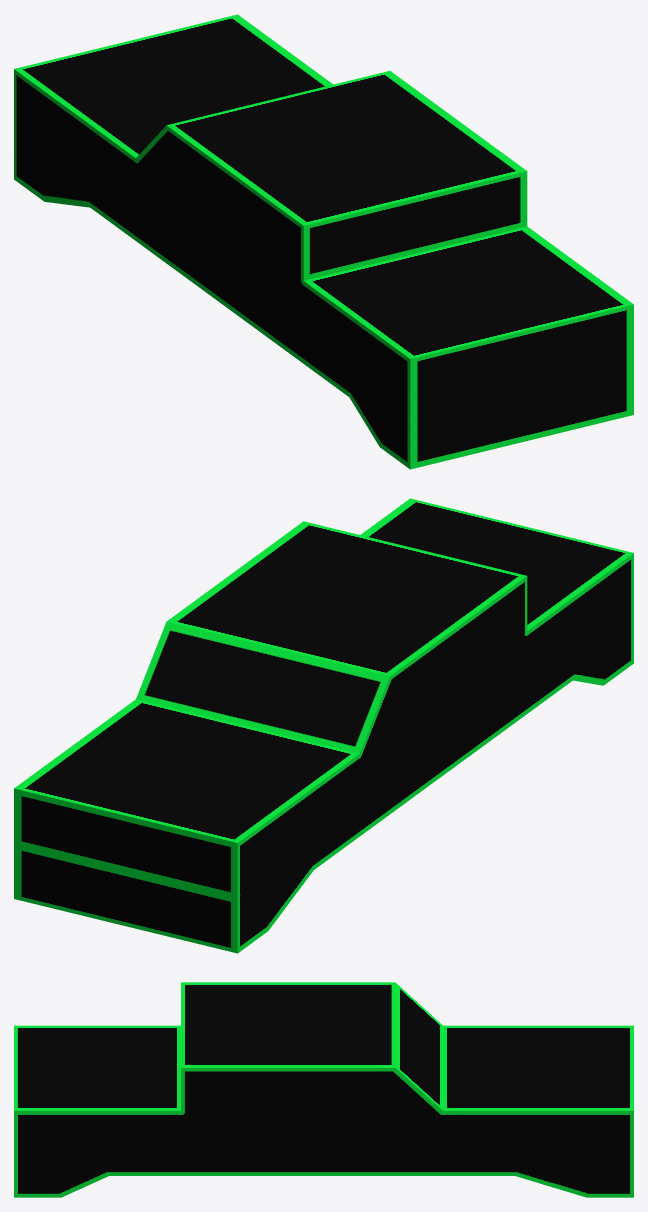
File: car1.FBX
The picture shows the model from 3 angles, top to bottom: view 1: azimuth 30°, elevation 25°; view 2: azimuth 150°, elevation 25°; view 3: azimuth 270°, elevation 25°; orthographic projection. The views are drawn at different scales.
Visible parts, largest first — view 1: Line001; view 2: Line001; view 3: Line001.
Boxes of the visible parts, <box> form: Line001: <box>14,14,633,469</box>; Line001: <box>14,498,633,953</box>; Line001: <box>14,982,633,1197</box>.
Bounding box in the file's own units: 47.01 × 33.28 × 144.
1 material, 1 textured.
